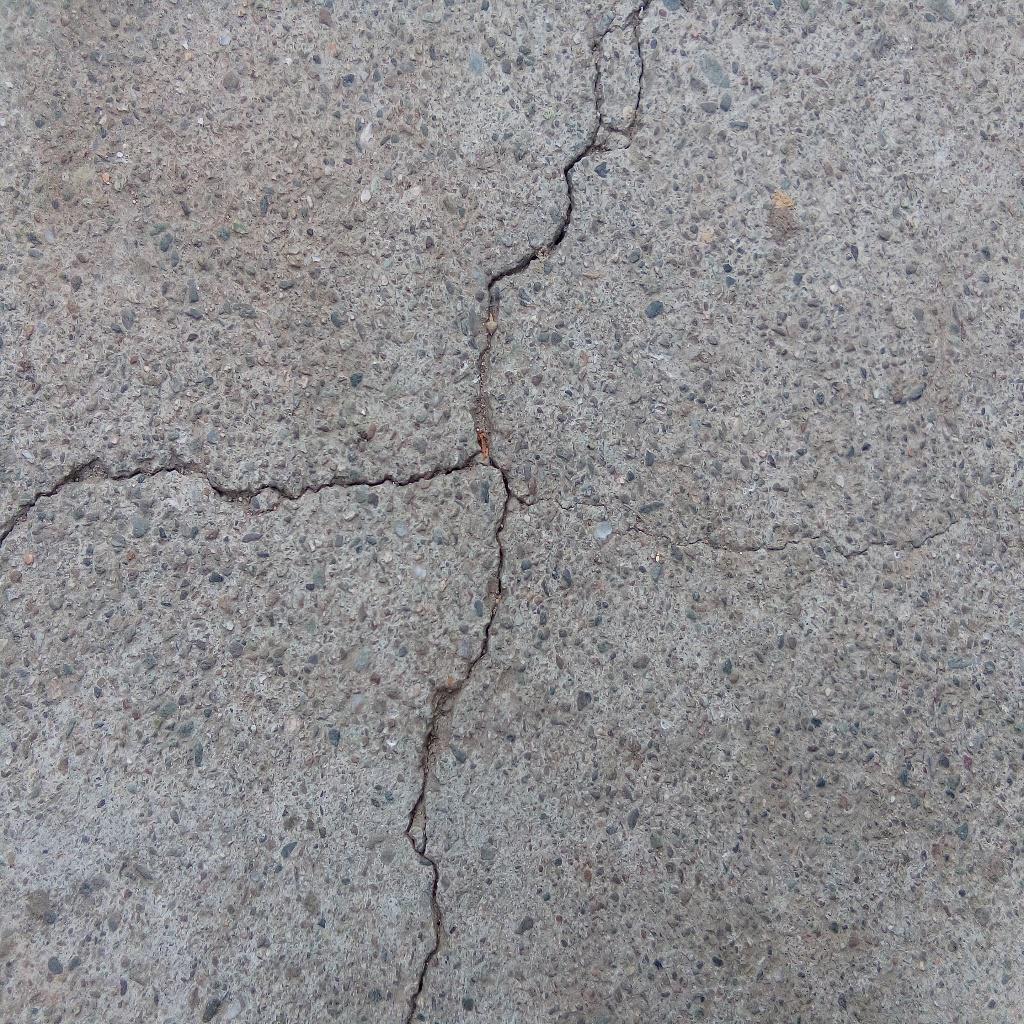Crack: (468, 1, 653, 449), (404, 457, 512, 1024), (1, 449, 480, 549), (513, 491, 962, 560)
